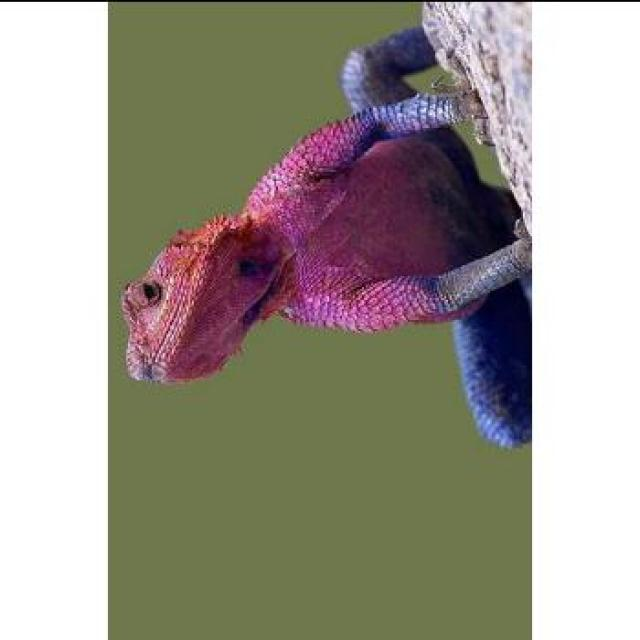Lizard: (119, 22, 536, 448)
